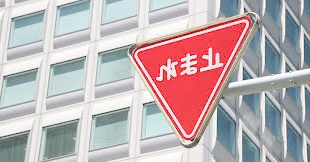Regulatory_sign_triangle: (129, 17, 253, 149)
